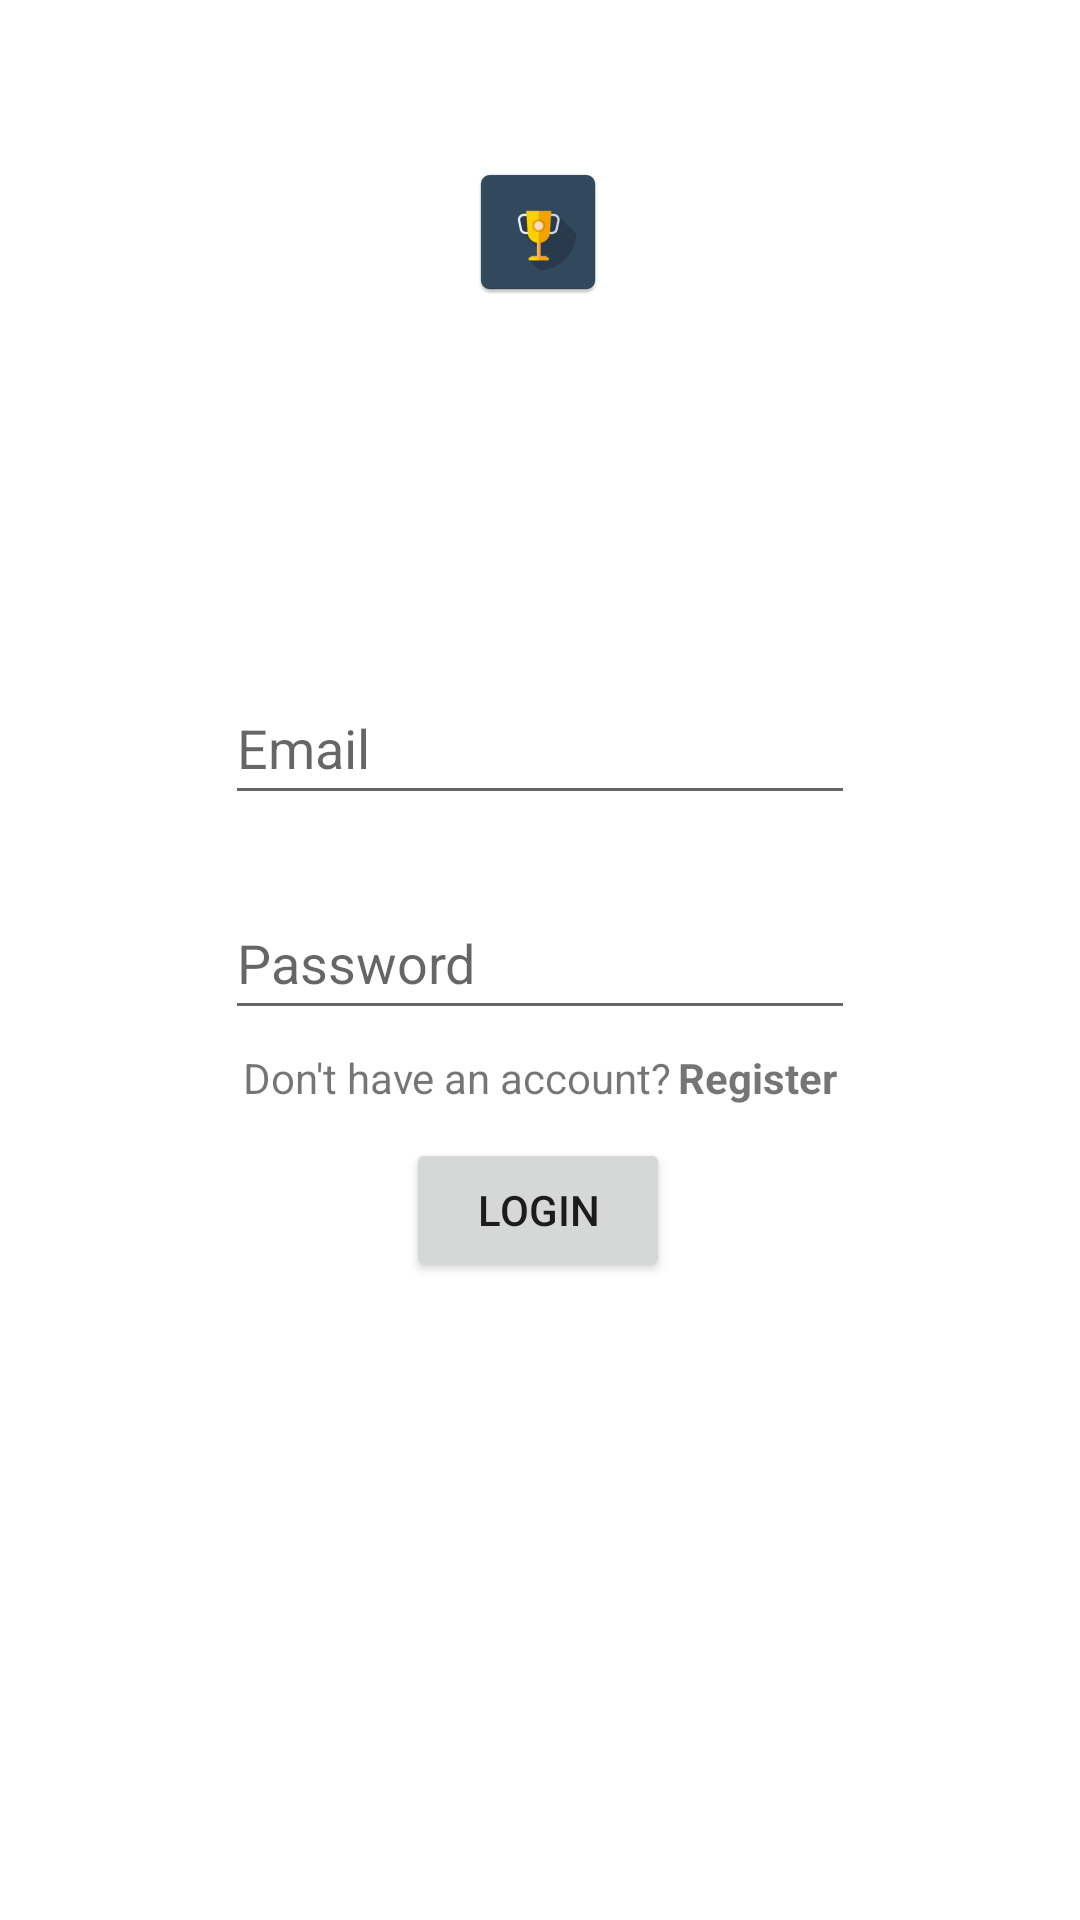

Where to tap for icons on this 1080x1920 app screen, as point (x, y):
app icon: point (538, 233)
